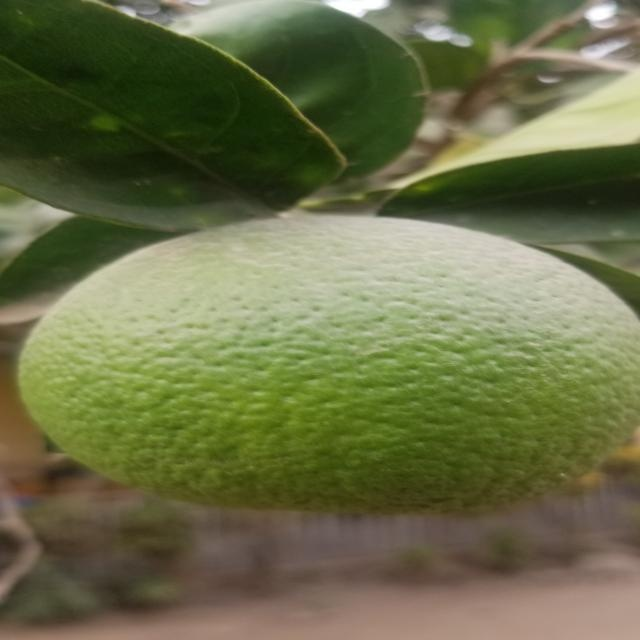agrume: (23, 222, 637, 514)
